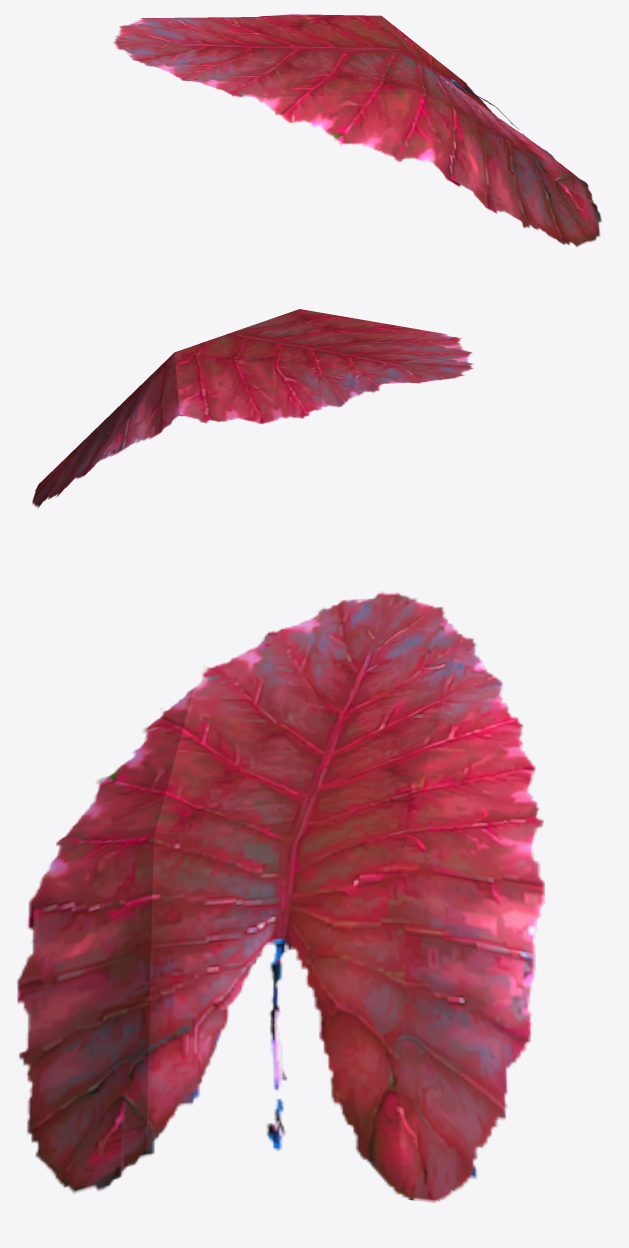
File: AlienPlant_1_EELeaf_2.gltf
The picture shows the model from 3 angles, top to bottom: view 1: azimuth 30°, elevation 25°; view 2: azimuth 150°, elevation 25°; view 3: azimuth 270°, elevation 25°; orthographic projection. The views are drawn at different scales.
Visible parts, largest first — view 1: AlienPlant_1_EELeaf_2; view 2: AlienPlant_1_EELeaf_2; view 3: AlienPlant_1_EELeaf_2.
Boxes of the visible parts, bbox=[...] form: AlienPlant_1_EELeaf_2: bbox=[113, 14, 601, 246]; AlienPlant_1_EELeaf_2: bbox=[32, 309, 473, 508]; AlienPlant_1_EELeaf_2: bbox=[17, 591, 544, 1202].
Size of the model in its own units: 1.71 by 0.8539 by 1.26.
Materials: 1 (1 with a texture image).
